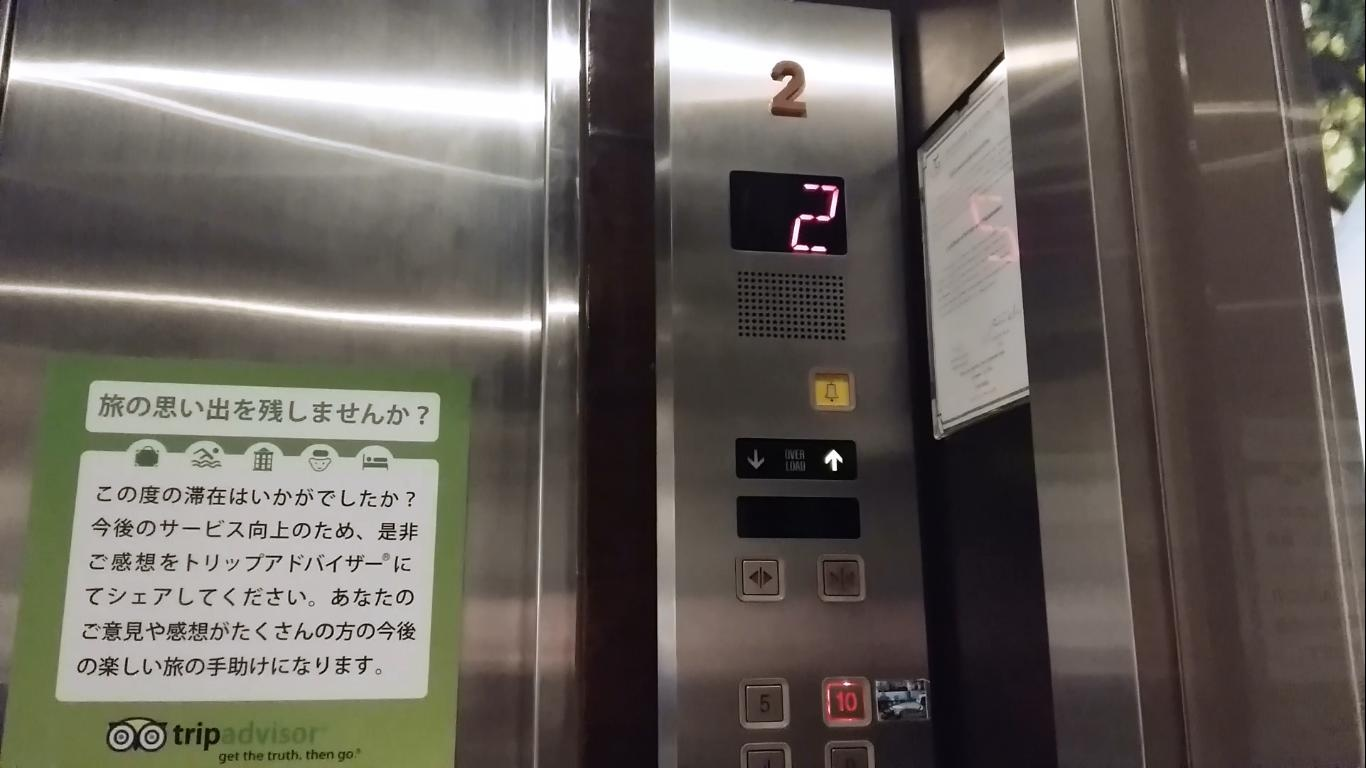10: (819, 675, 875, 731)
5: (736, 674, 792, 731)
alarm: (807, 366, 858, 415)
close: (814, 550, 868, 606)
led: (724, 162, 849, 258)
open: (731, 549, 787, 606)
speaker: (734, 265, 849, 347)
